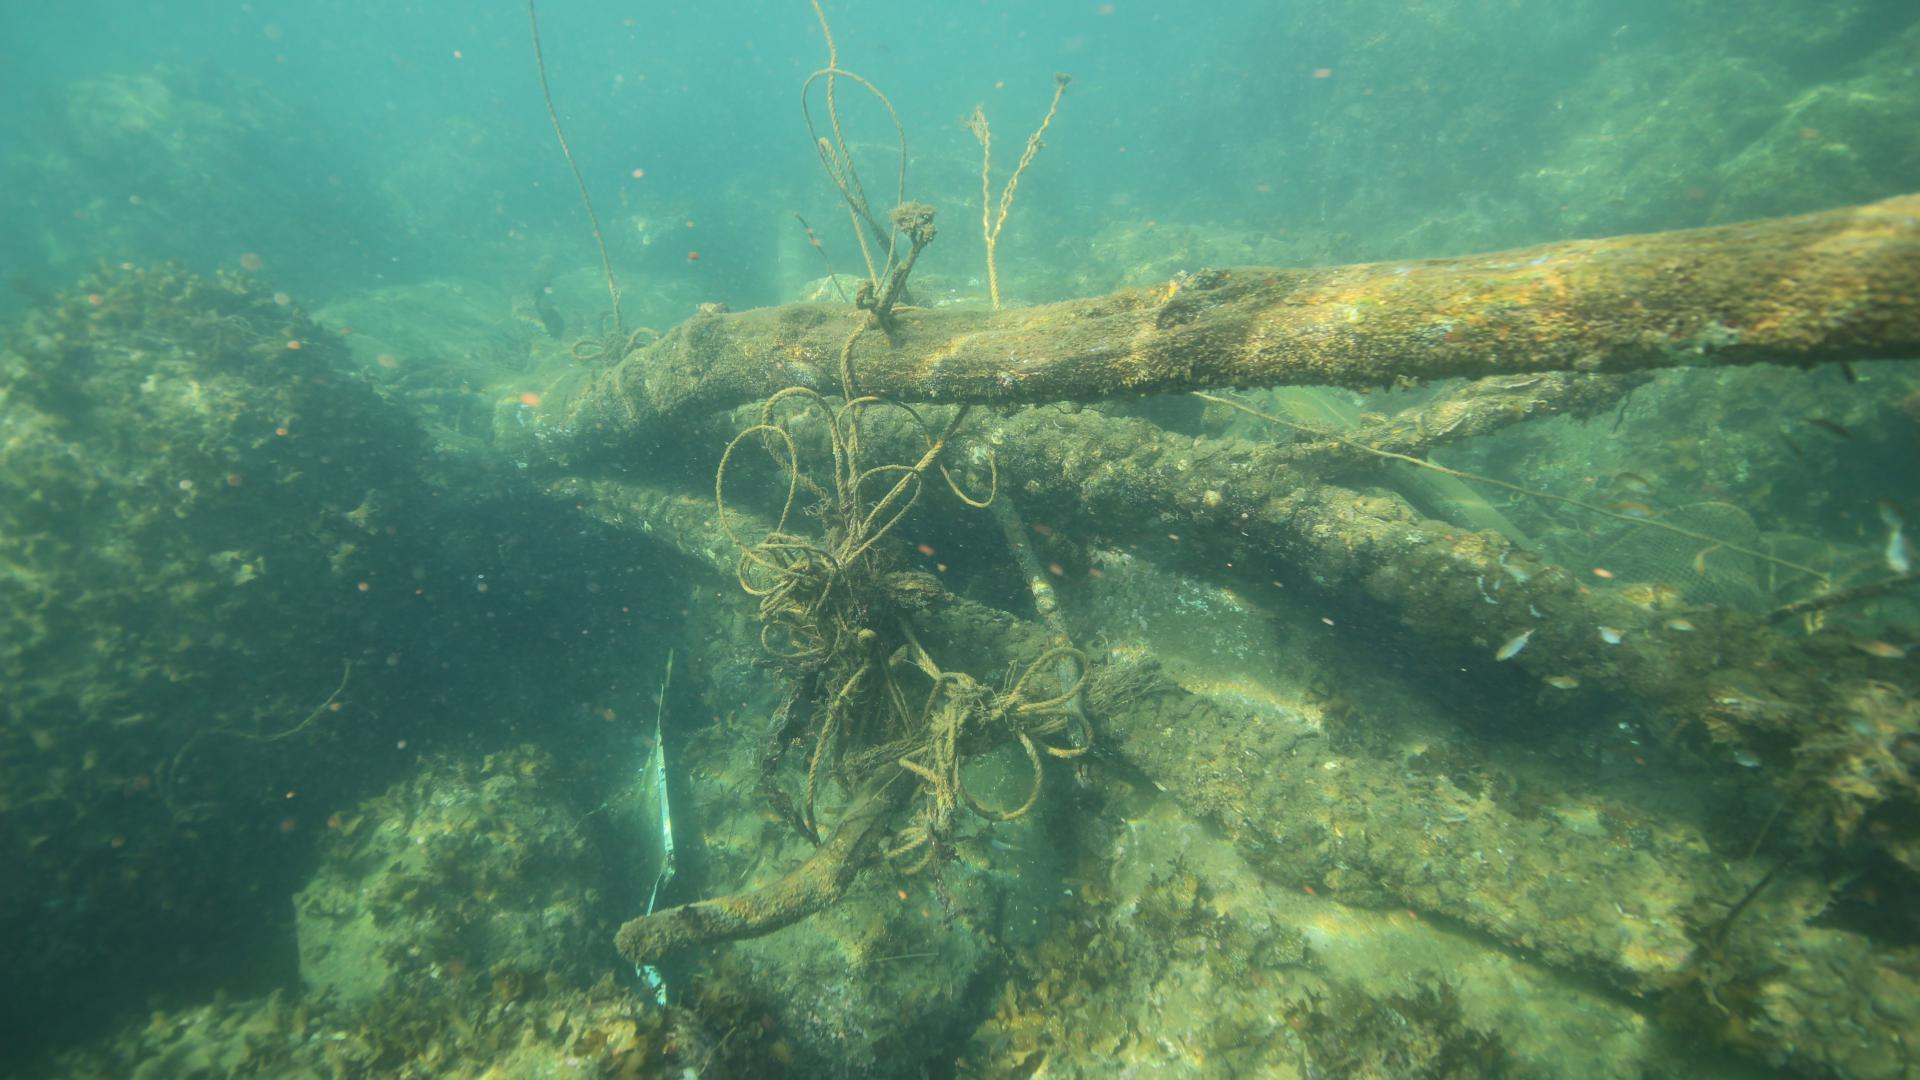bundle of ropes: (713, 0, 1095, 877), (526, 0, 665, 450)
wood: (386, 193, 1920, 1080)
